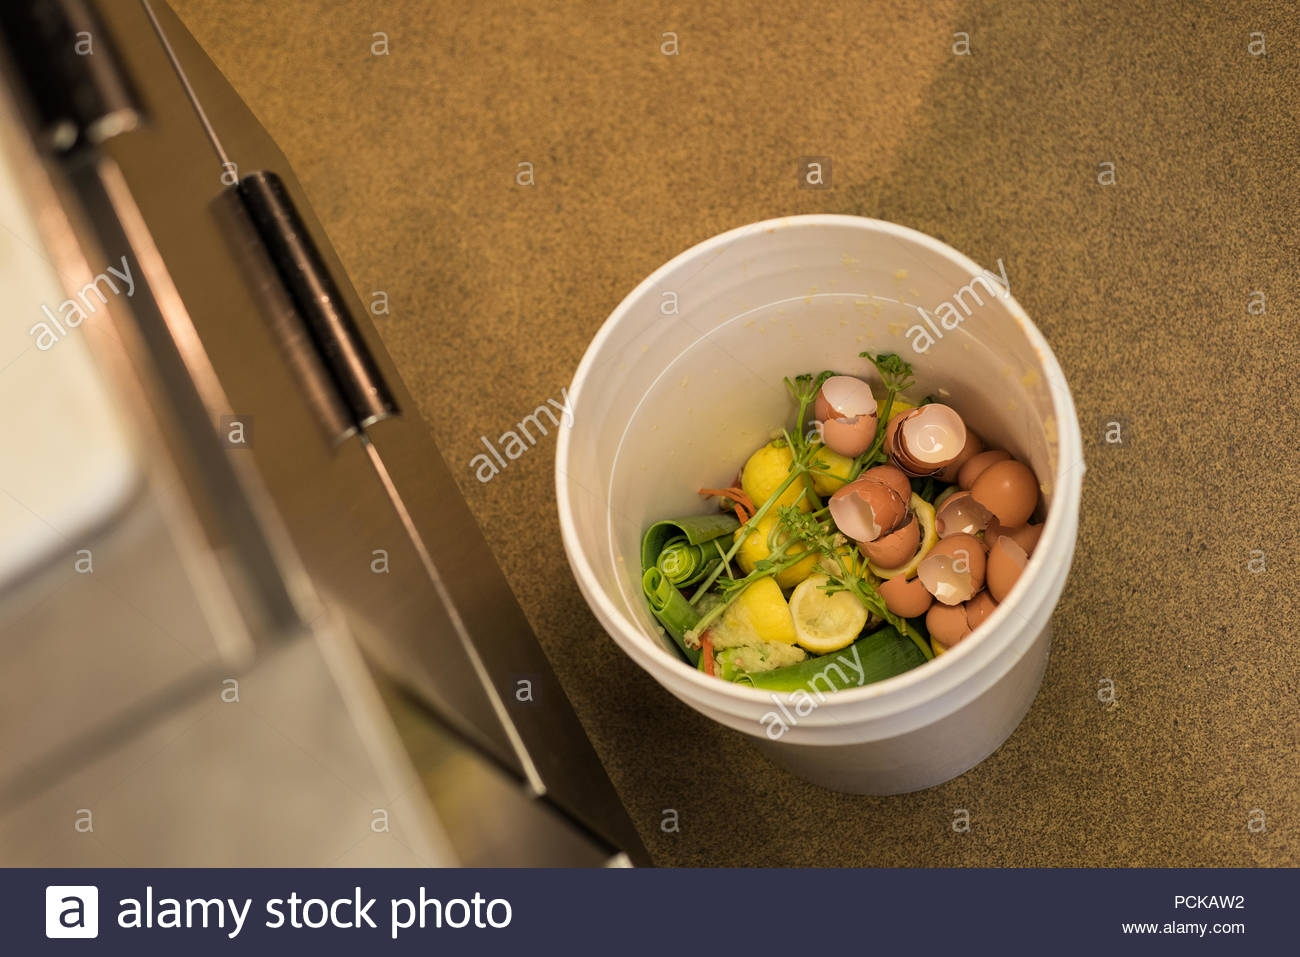kitchen_waste: (630, 510, 771, 662), (733, 433, 844, 529), (697, 569, 813, 661), (875, 391, 984, 485), (813, 461, 924, 553), (798, 367, 895, 470), (779, 562, 880, 659), (723, 501, 832, 580), (952, 444, 1041, 537), (904, 522, 992, 609)
